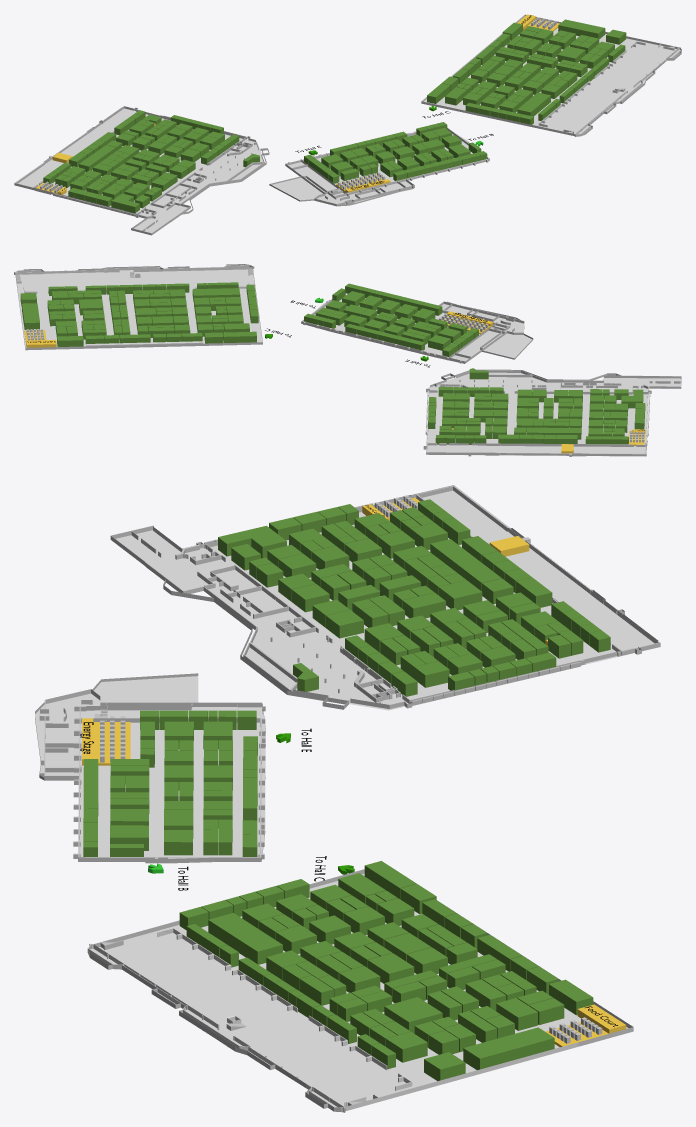
Rendered from all_in_one.glb.
3 renders of one model, top to bottom at view 1: azimuth 30°, elevation 25°; view 2: azimuth 150°, elevation 25°; view 3: azimuth 270°, elevation 25°, orthographic. The views are drawn at different scales.
Parts seen in each view (by area): view 1: Plane.001, Background_curve_.001, Building_curve_.013, Plane, Building_curve_, Building_curve_.002, Background_curve_, BOOTHLAYER_curve_.B-3190, BOOTHLAYER_curve_.B-6030, BOOTHLAYER_curve_.E-2050, BOOTHLAYER_curve_.E-6000, Cube.002 (+1 smaller); view 2: Background_curve_.001, Plane.001, Building_curve_.013, Plane, Building_curve_, Building_curve_.002, Background_curve_, Background, BOOTHLAYER_curve_.B-6030, BOOTHLAYER_curve_.E-2050, BOOTHLAYER_curve_.B-3190, BOOTHLAYER_curve_.B-1000 (+4 smaller); view 3: Plane.001, Background_curve_.001, Plane, Building_curve_.013, Building_curve_.002, Building_curve_, Background_curve_, BOOTHLAYER_curve_.B-3190, BOOTHLAYER_curve_.B-6030, Background, BOOTHLAYER_curve_.E-2050, Energy_Stage.001 (+8 smaller).
Boxes of the visible parts, x1=… form: Plane.001: x1=424, y1=28, x2=680, y2=134; Background_curve_.001: x1=18, y1=108, x2=263, y2=234; Building_curve_.013: x1=14, y1=106, x2=269, y2=235; Plane: x1=272, y1=134, x2=472, y2=204; Building_curve_: x1=285, y1=127, x2=489, y2=205; Building_curve_.002: x1=422, y1=14, x2=681, y2=136; Background_curve_: x1=421, y1=21, x2=681, y2=136; BOOTHLAYER_curve_.B-3190: x1=558, y1=19, x2=605, y2=38; BOOTHLAYER_curve_.B-6030: x1=517, y1=92, x2=550, y2=116; BOOTHLAYER_curve_.E-2050: x1=79, y1=145, x2=116, y2=172; BOOTHLAYER_curve_.E-6000: x1=111, y1=193, x2=139, y2=213; Cube.002: x1=337, y1=172, x2=385, y2=189; Background_curve_.001: x1=426, y1=372, x2=681, y2=456; Plane.001: x1=15, y1=269, x2=262, y2=347; Building_curve_.013: x1=423, y1=369, x2=681, y2=456; Plane: x1=314, y1=293, x2=531, y2=361; Building_curve_: x1=301, y1=299, x2=524, y2=363; Building_curve_.002: x1=14, y1=265, x2=253, y2=346; Background_curve_: x1=14, y1=264, x2=262, y2=350; Background: x1=301, y1=300, x2=533, y2=363; BOOTHLAYER_curve_.B-6030: x1=192, y1=288, x2=240, y2=302; BOOTHLAYER_curve_.E-2050: x1=526, y1=427, x2=581, y2=439; BOOTHLAYER_curve_.B-3190: x1=22, y1=303, x2=39, y2=329; BOOTHLAYER_curve_.B-1000: x1=223, y1=331, x2=256, y2=342; Plane.001: x1=90, y1=873, x2=628, y2=1106; Background_curve_.001: x1=116, y1=490, x2=655, y2=710; Plane: x1=35, y1=676, x2=265, y2=856; Building_curve_.013: x1=110, y1=485, x2=660, y2=709; Building_curve_.002: x1=88, y1=900, x2=632, y2=1112; Building_curve_: x1=39, y1=689, x2=265, y2=861; Background_curve_: x1=87, y1=869, x2=633, y2=1112; BOOTHLAYER_curve_.B-3190: x1=463, y1=1027, x2=554, y2=1070; BOOTHLAYER_curve_.B-6030: x1=208, y1=913, x2=282, y2=964; Background: x1=35, y1=673, x2=265, y2=863; BOOTHLAYER_curve_.E-2050: x1=430, y1=539, x2=501, y2=591; Energy_Stage.001: x1=82, y1=718, x2=130, y2=765.
Size of the model in its own units: 258 by 2.66 by 109.
